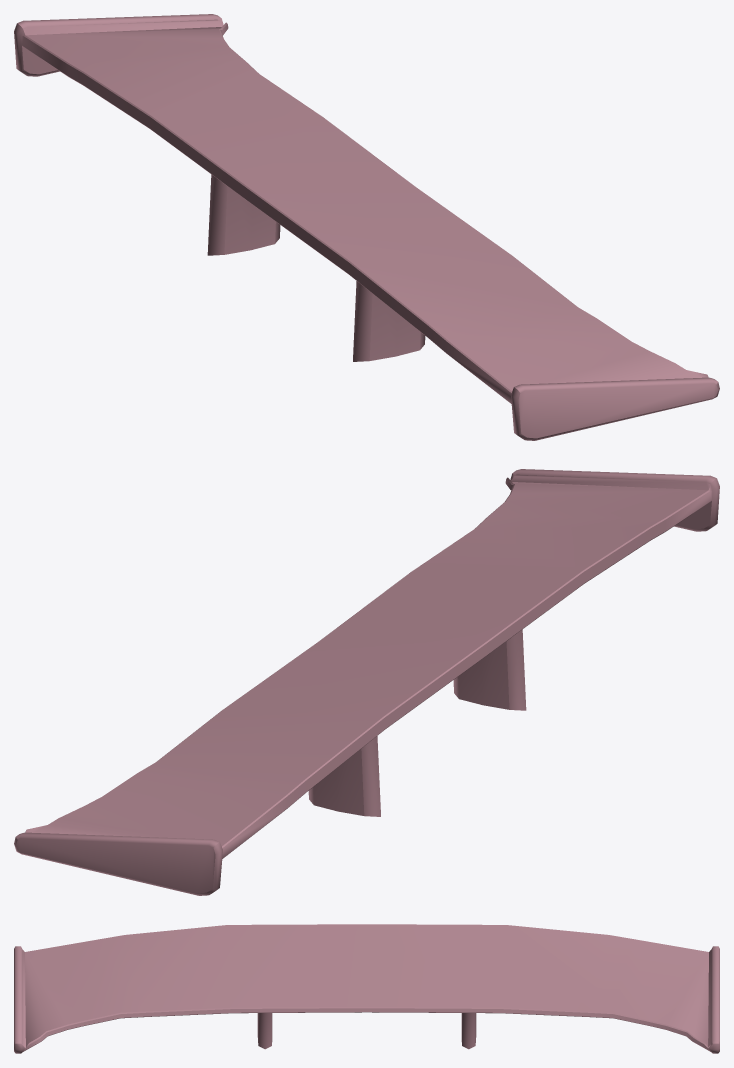
3 views of the same model, one above another, from view 1: azimuth 30°, elevation 25°; view 2: azimuth 150°, elevation 25°; view 3: azimuth 270°, elevation 25° (orthographic). The views are drawn at different scales.
Parts seen in each view (by area): view 1: sp4; view 2: sp4; view 3: sp4.
Boxes of the visible parts, x1,y1,x2,y2 form: sp4: (14,14,719,440); sp4: (14,469,719,895); sp4: (14,924,719,1053).
Size of the model in its own units: 0.3823 by 0.2108 by 1.5.
